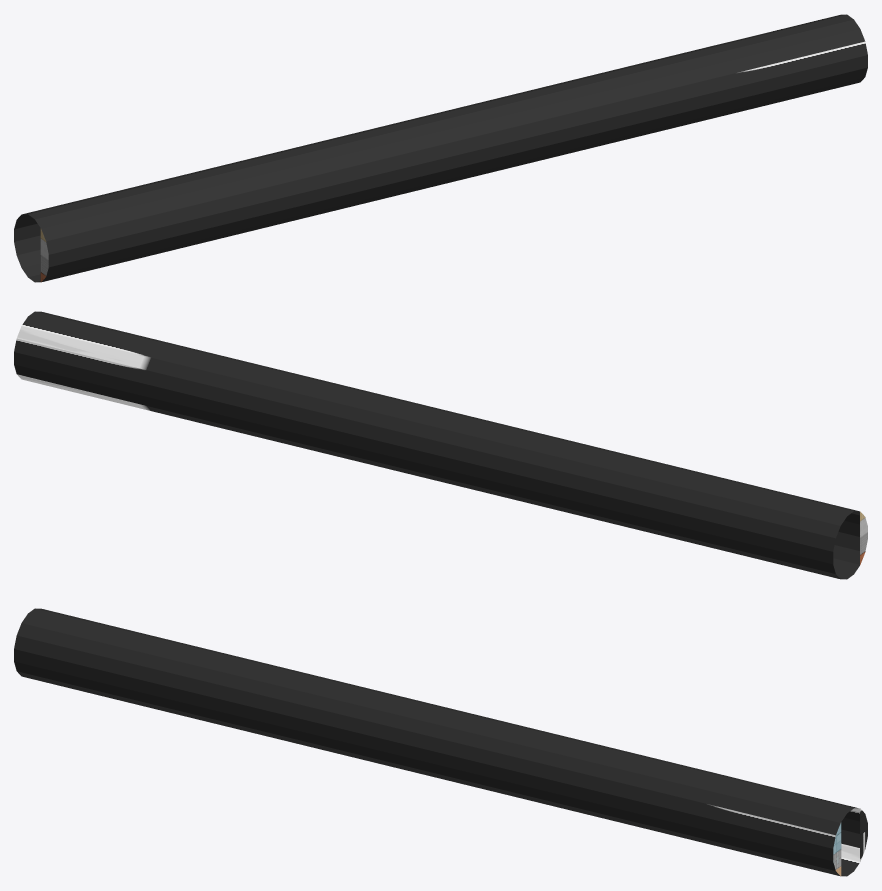
The model's file is Props_Pipe_01.fbx.
3 views of the same model, one above another, from view 1: azimuth 30°, elevation 25°; view 2: azimuth 150°, elevation 25°; view 3: azimuth 330°, elevation 25° (orthographic).
Parts seen in each view (by area): view 1: Props_Pipe_01; view 2: Props_Pipe_01; view 3: Props_Pipe_01.
Boxes of the visible parts, x1,y1,x2,y2 form: Props_Pipe_01: (14,14,867,282); Props_Pipe_01: (14,311,867,579); Props_Pipe_01: (14,608,867,876).
Bounding box in the file's own units: 200 × 14.71 × 14.71.
